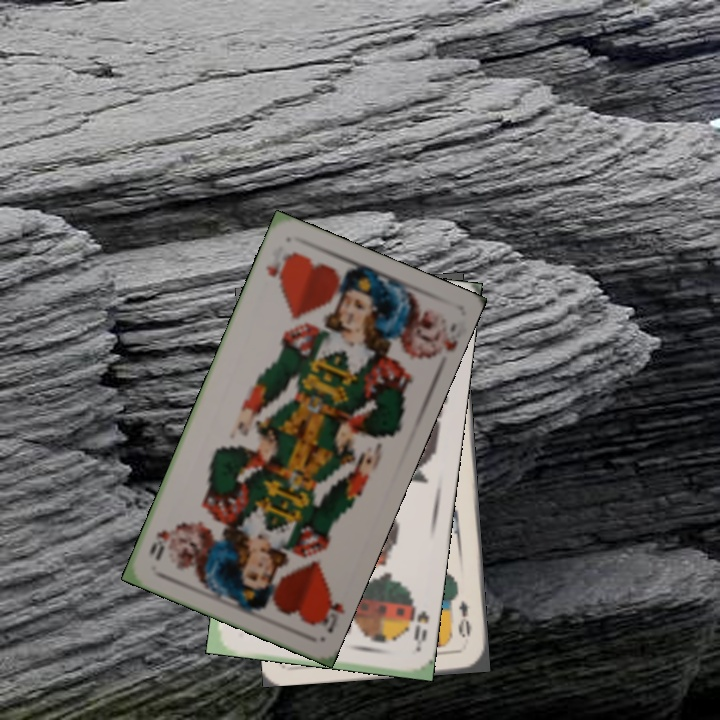EO: (454, 597, 474, 640)
HO: (311, 583, 347, 636), (261, 241, 296, 291)
SO: (404, 592, 432, 653)
